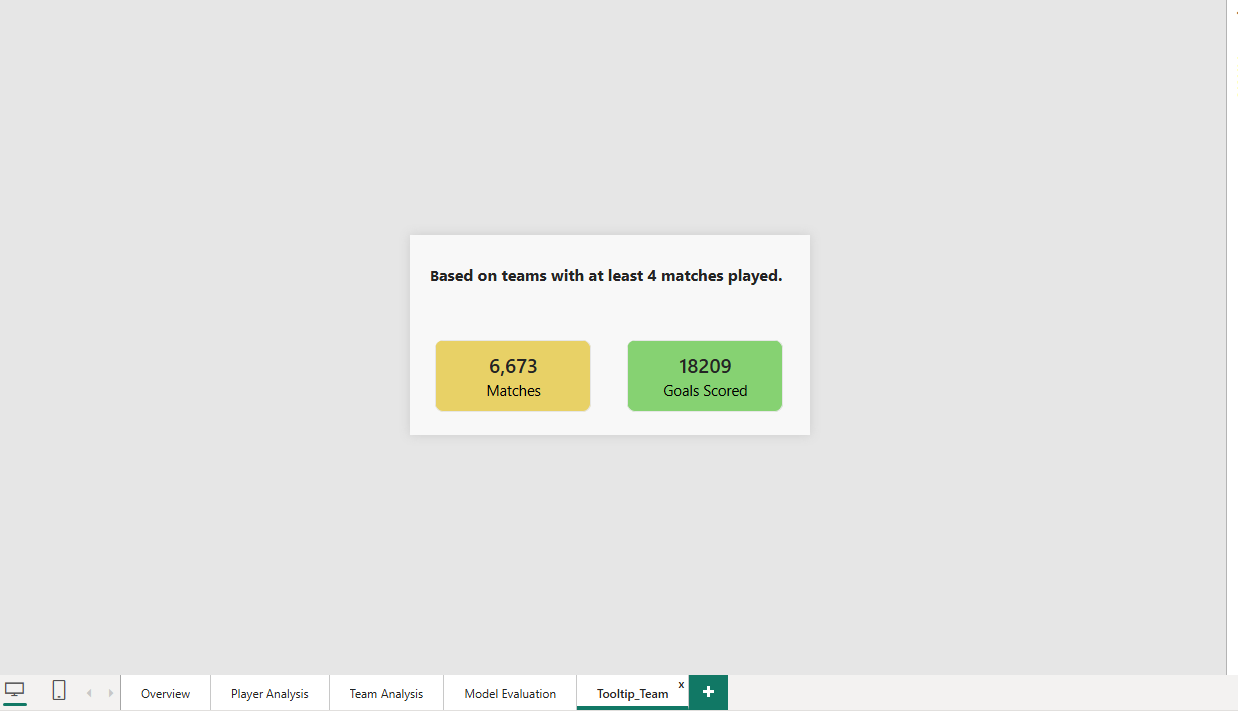

The page's visual inventory and layout, read from the dashboard file:
{"tool":"powerbi","page":{"name":"Tooltip_Team","canvas":[400,200],"ordinal":4},"visuals":[{"type":"textbox","box":[20,29.2,360,40],"z":0},{"type":"cardVisual","fields":{"Data":["Measures Table.Total Matches"]},"box":[24.6,104.6,156,72],"z":1000},{"type":"cardVisual","fields":{"Data":["Measures Table.Team_Selected Dynamic Metric"]},"box":[216.9,104.6,156,72],"z":2000}]}

Visuals, with their boxes on the page's 400x200 design canvas (x1, y1, x2, y2). These are canvas units, not pixel positions in the 1238x711 screenshot, which may show the page scaled, cropped or inside an application window:
textbox: bbox=(20, 29, 380, 69)
cardVisual - Measures Table.Total Matches: bbox=(25, 105, 181, 177)
cardVisual - Measures Table.Team_Selected Dynamic Metric: bbox=(217, 105, 373, 177)
